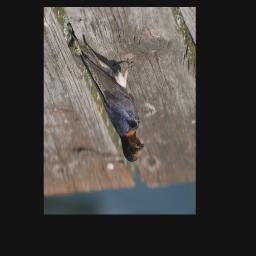Swallow: (67, 27, 145, 163)
